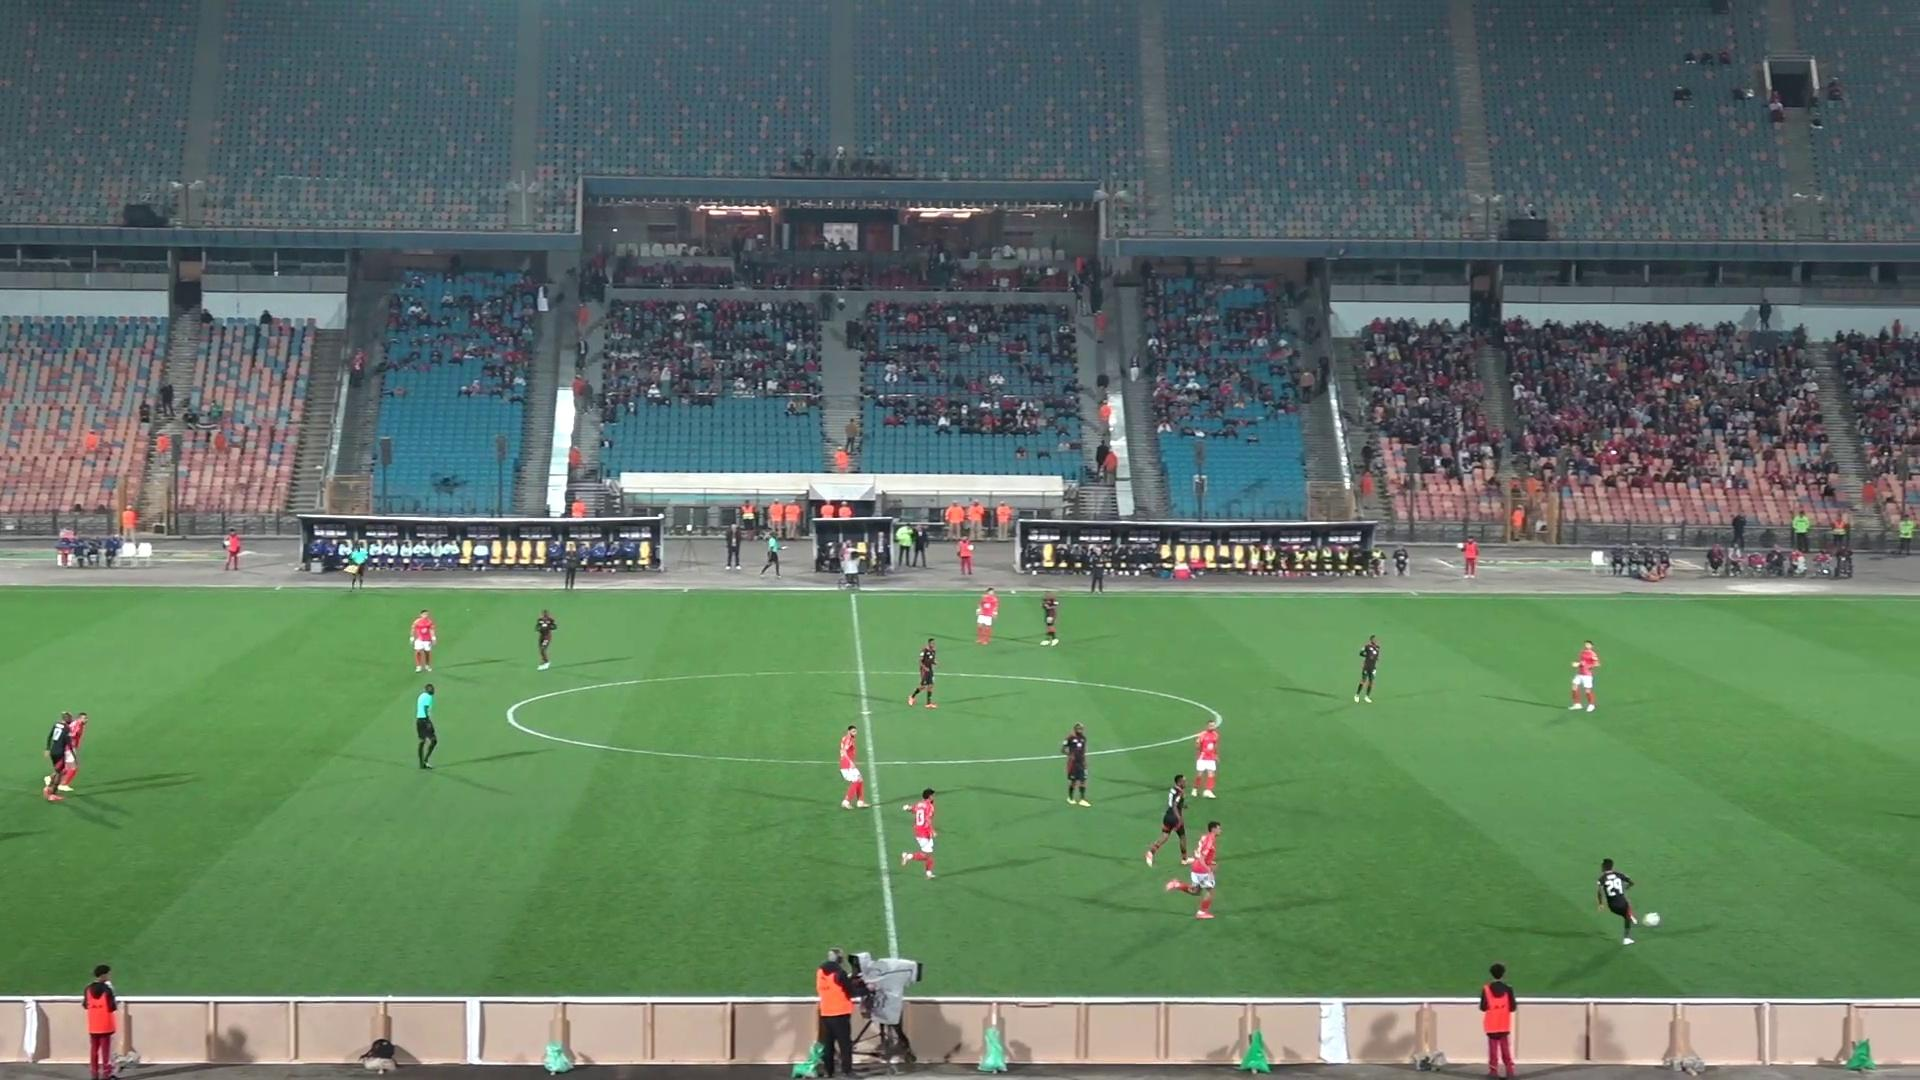Ball: (1636, 911, 1662, 928)
Refree: (415, 684, 439, 769), (340, 541, 371, 588), (760, 530, 783, 576)
Team1: (1166, 822, 1221, 916), (901, 789, 935, 877), (837, 725, 866, 808), (1191, 717, 1218, 799), (1568, 642, 1600, 711), (407, 611, 436, 671), (975, 589, 1000, 645)
Team2: (1145, 775, 1191, 866), (44, 712, 88, 800), (1594, 858, 1639, 945), (1062, 723, 1091, 806), (905, 640, 938, 708), (1352, 636, 1381, 702), (535, 609, 556, 669), (1036, 591, 1059, 646)
